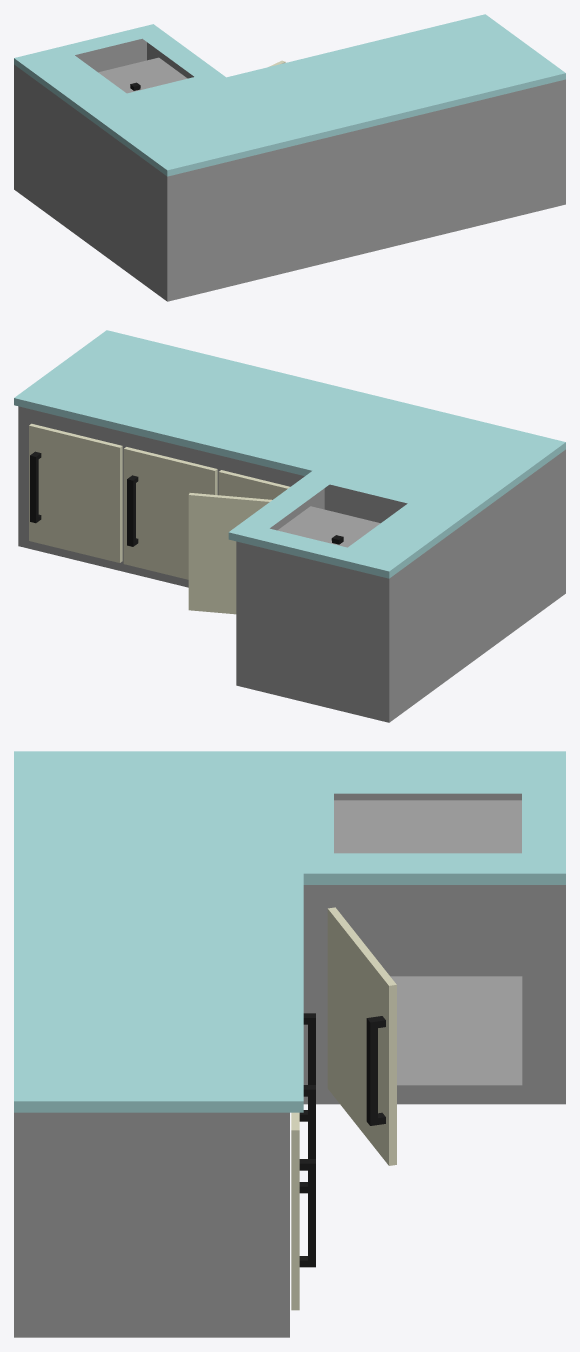
Rendered from StoveTable.fbx.
The picture shows the model from 3 angles, top to bottom: view 1: azimuth 30°, elevation 25°; view 2: azimuth 150°, elevation 25°; view 3: azimuth 270°, elevation 25°; orthographic projection. The views are drawn at different scales.
Visible parts, largest first — view 1: Stove; view 2: Stove; view 3: Stove.
Boxes of the visible parts, bbox=[...] form: Stove: bbox=[14, 14, 565, 301]; Stove: bbox=[14, 330, 565, 722]; Stove: bbox=[14, 751, 565, 1337].
Size of the model in its own units: 300 by 94.5 by 200.
